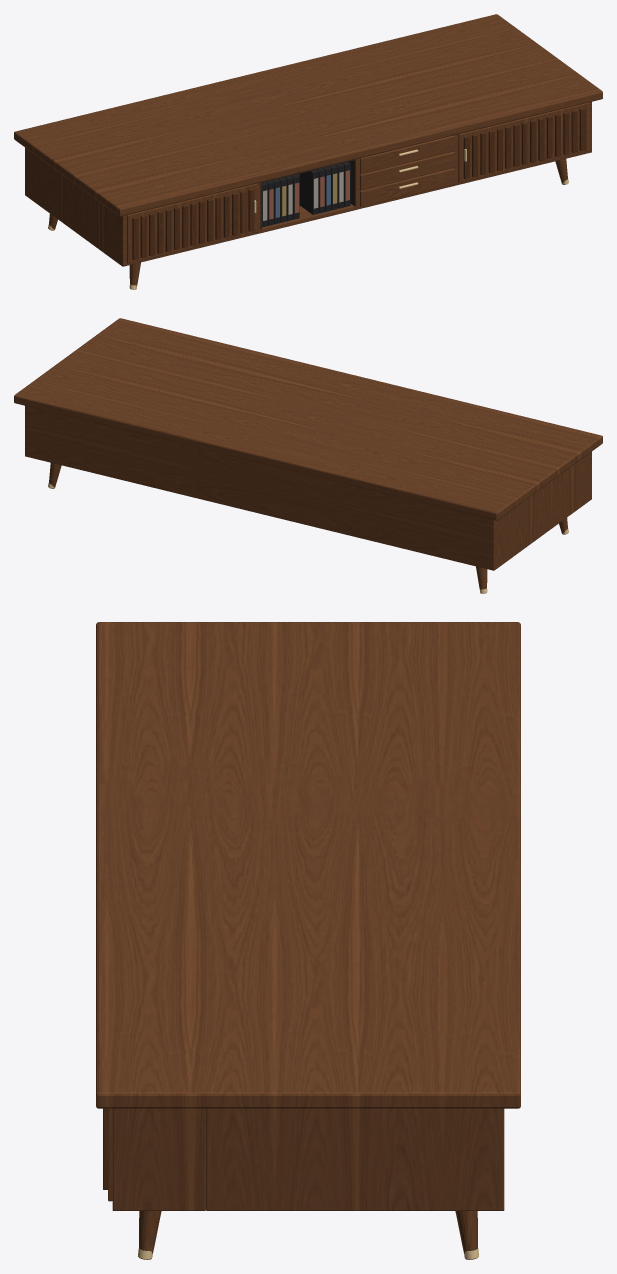
File: media-console.glb
3 views of the same model, one above another, from view 1: azimuth 30°, elevation 25°; view 2: azimuth 150°, elevation 25°; view 3: azimuth 270°, elevation 25° (orthographic). The views are drawn at different scales.
Visible parts, largest first — view 1: Walnut top; view 2: Walnut top; view 3: Walnut top.
Part boxes in pixels (<box>): Walnut top: <box>14,14,602,289</box>; Walnut top: <box>14,318,602,593</box>; Walnut top: <box>96,622,520,1259</box>.
Size of the model in its own units: 6.7 by 1.26 by 2.55.
Materials: 9 (2 with a texture image).
